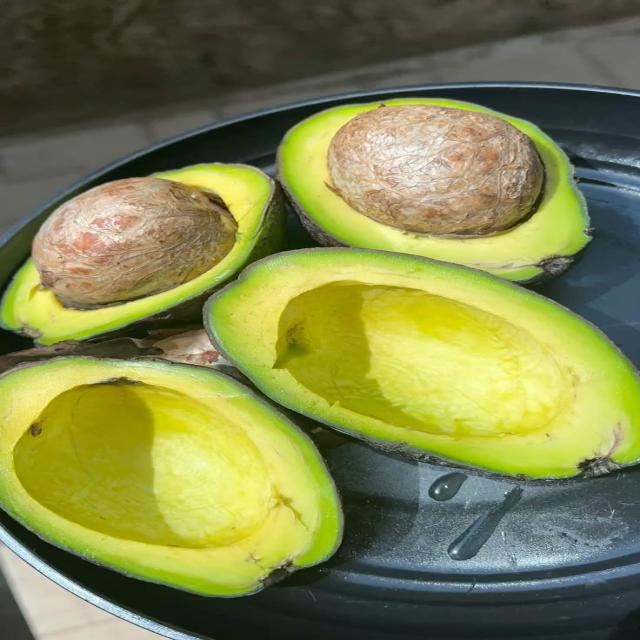avocado: (205, 248, 639, 478), (0, 358, 341, 596), (278, 99, 589, 282), (0, 164, 284, 344)
